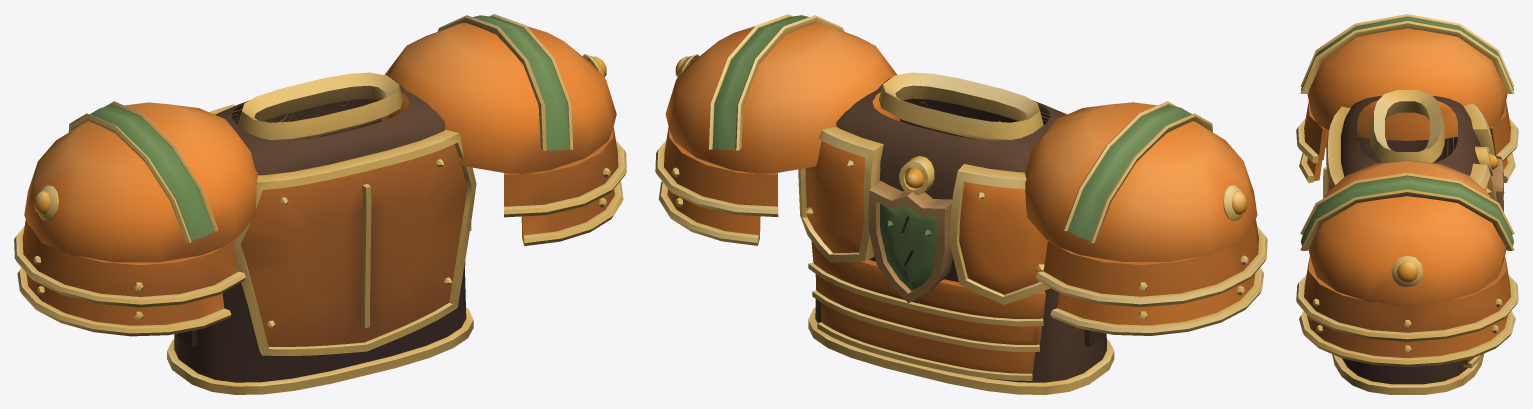
The model's file is pilotA_armor_greatsword_legendary_stoneplains.fbx.
3 renders of one model, left to right at view 1: azimuth 30°, elevation 25°; view 2: azimuth 150°, elevation 25°; view 3: azimuth 270°, elevation 25°, orthographic. The views are drawn at different scales.
Visible parts, largest first — view 1: Chest, Pauldron_L, Pauldron_R; view 2: Chest, Pauldron_L, Pauldron_R; view 3: Pauldron_R, Pauldron_L, Chest.
Boxes of the visible parts, x1,y1,x2,y2 form: Chest: (167, 72, 476, 394); Pauldron_L: (14, 101, 257, 336); Pauldron_R: (381, 14, 626, 245); Chest: (798, 72, 1114, 394); Pauldron_L: (1025, 101, 1267, 335); Pauldron_R: (655, 14, 900, 245); Pauldron_R: (1296, 160, 1518, 367); Pauldron_L: (1296, 14, 1518, 182); Chest: (1323, 90, 1504, 394).
Size of the model in its own units: 471 by 214 by 179.
1 material, 1 textured.
